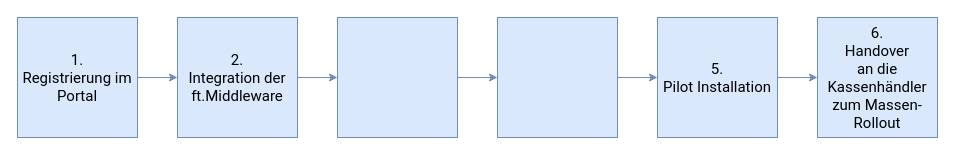
The diagram is 955 pixels wide and 155 high, and some of its shapes have lost their labels. Here are the shapes that lost their labels. From the top down, the centre of each, then its label:
pixel 397 77: 3. Onboarding der Kassenhändler
pixel 557 77: 4. Lösung komplexer Business Cases
